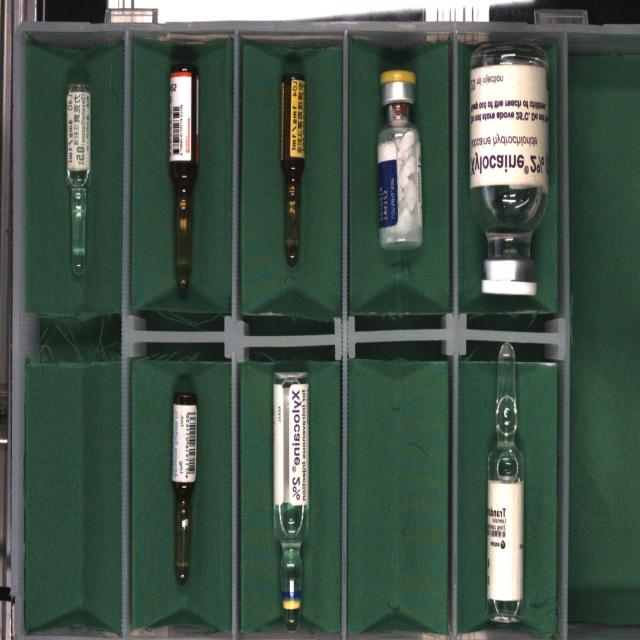Vials: (470, 44, 549, 295), (376, 70, 422, 249)
